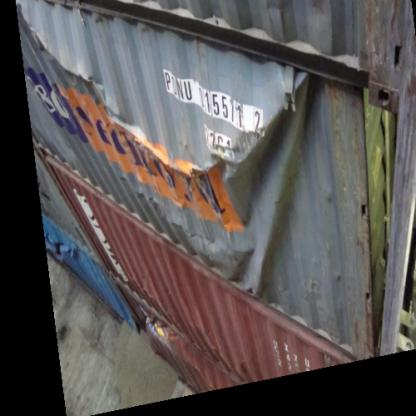Damage: (27, 33, 271, 183), (233, 61, 309, 202), (234, 189, 288, 328)
